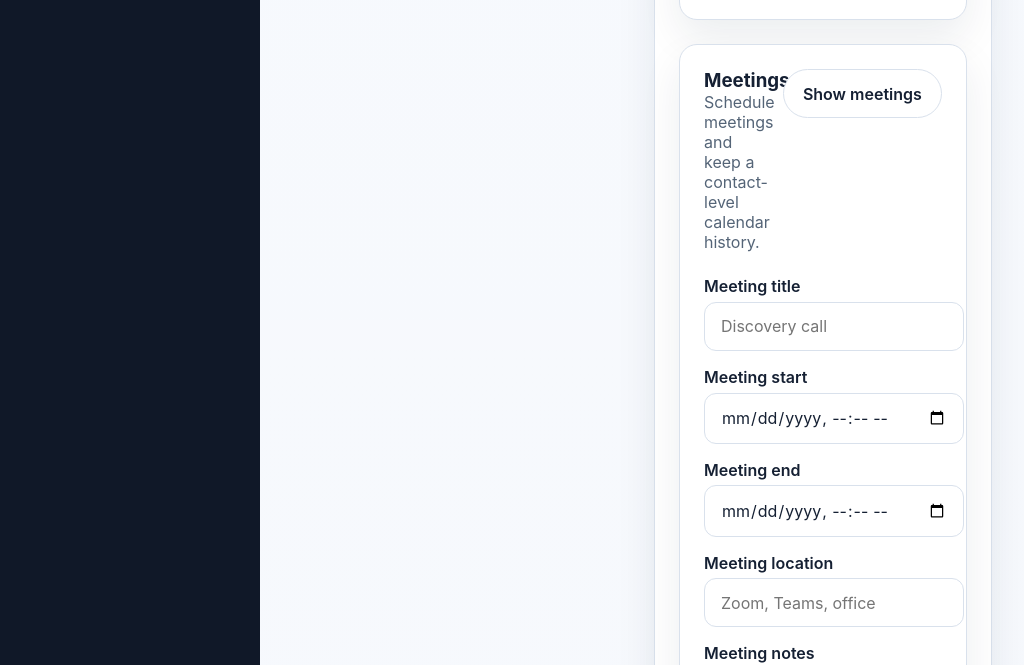
Test: contact calendar flow › schedules and cancels a meeting from contact detail
This screenshot has width=1024, height=665.
(page scrolled)
Check: the heading "Meetings" is shown, box [704,69,767,92]
Type "Intro meeting" into the field labelled "Meeting title" at (834,326), box [704,302,964,351]
Type "2026-06-20T14:00" into the field labelled "Meeting start" at (834,418), box [704,393,964,444]
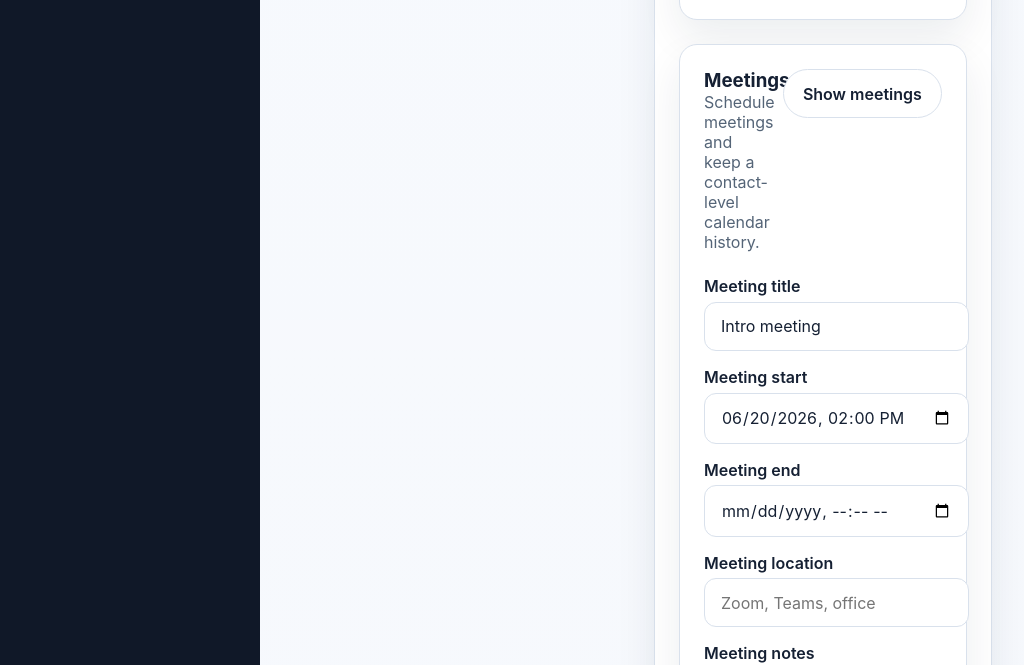
Type "2026-06-20T14:30" into the field labelled "Meeting end" at (836,511), box [704,485,969,537]
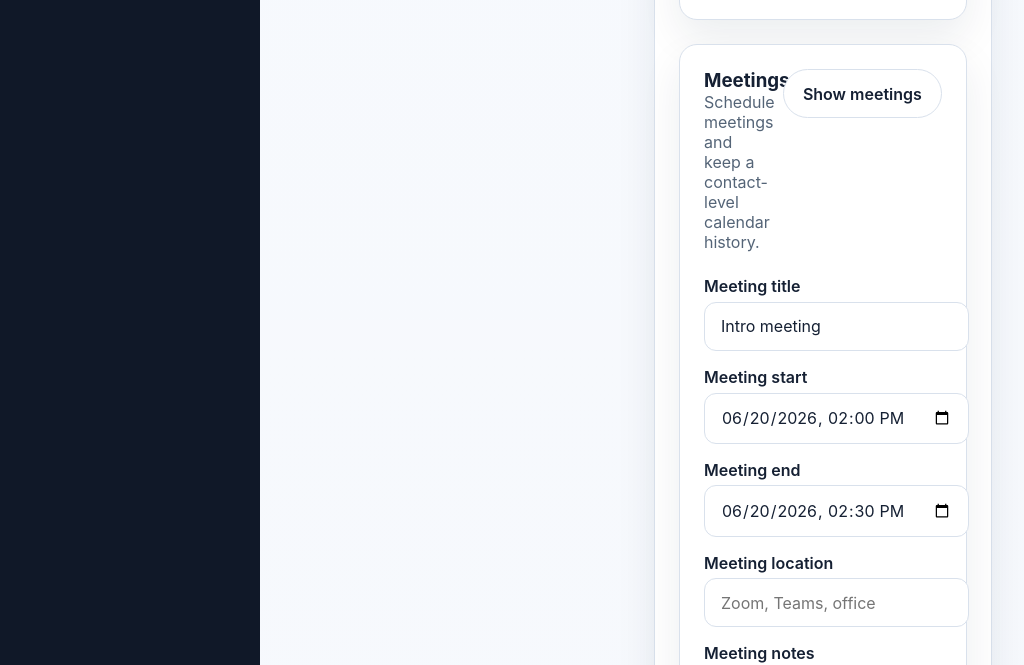
Type "Zoom" into the field labelled "Meeting location" at (836,603), box [704,578,969,627]
(page scrolled)
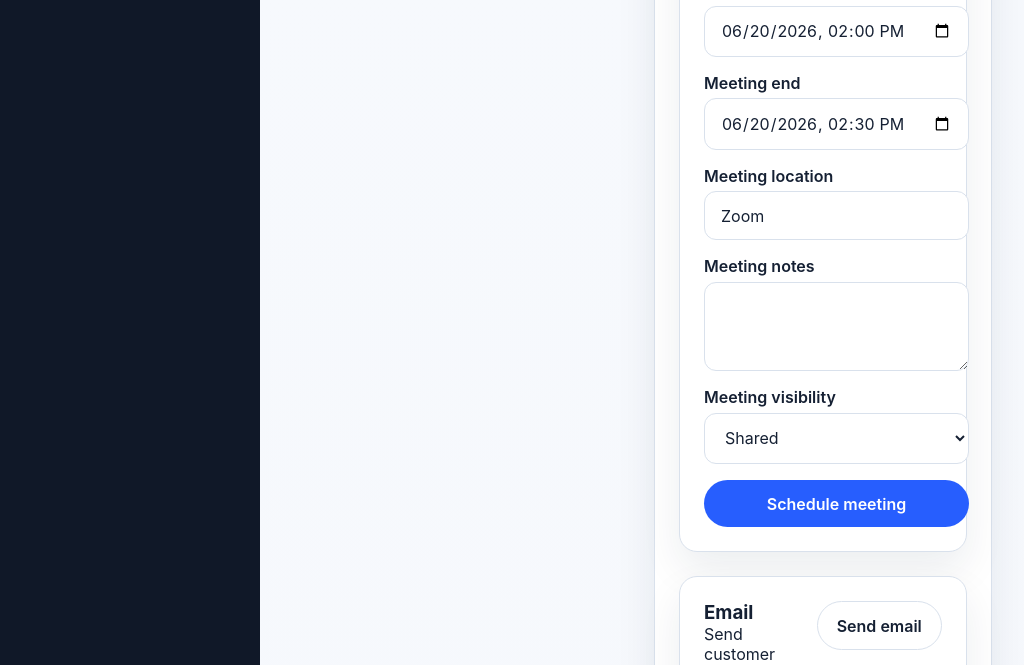
Type "Discuss timeline" into the text box labelled "Meeting notes" at (836,327), box [704,282,969,371]
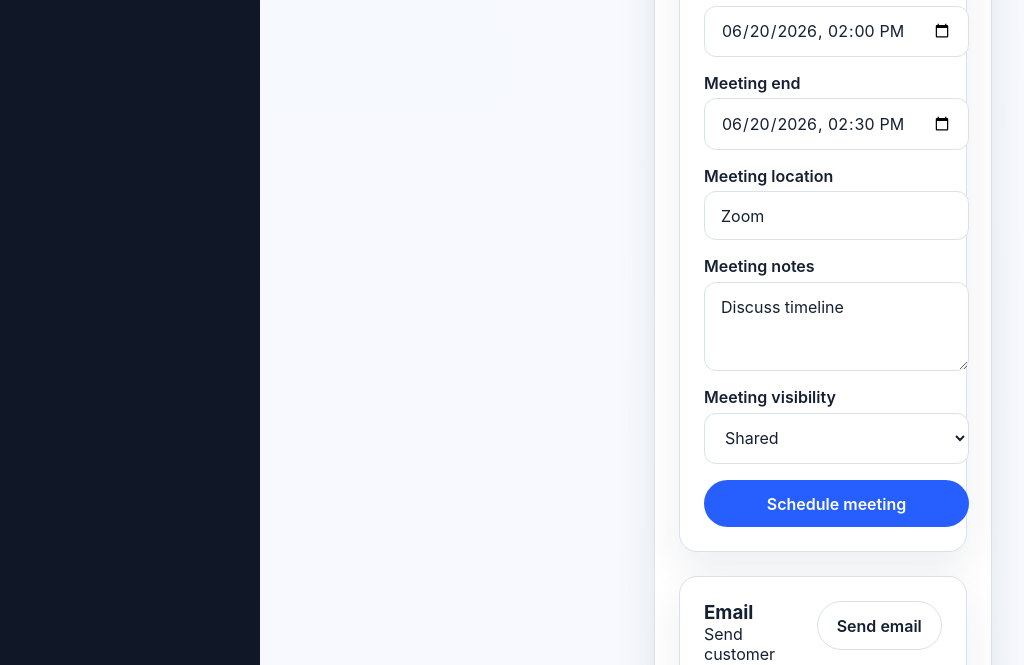
Click the button "Schedule meeting" at (836,504), box [704,480,969,527]
(page scrolled)
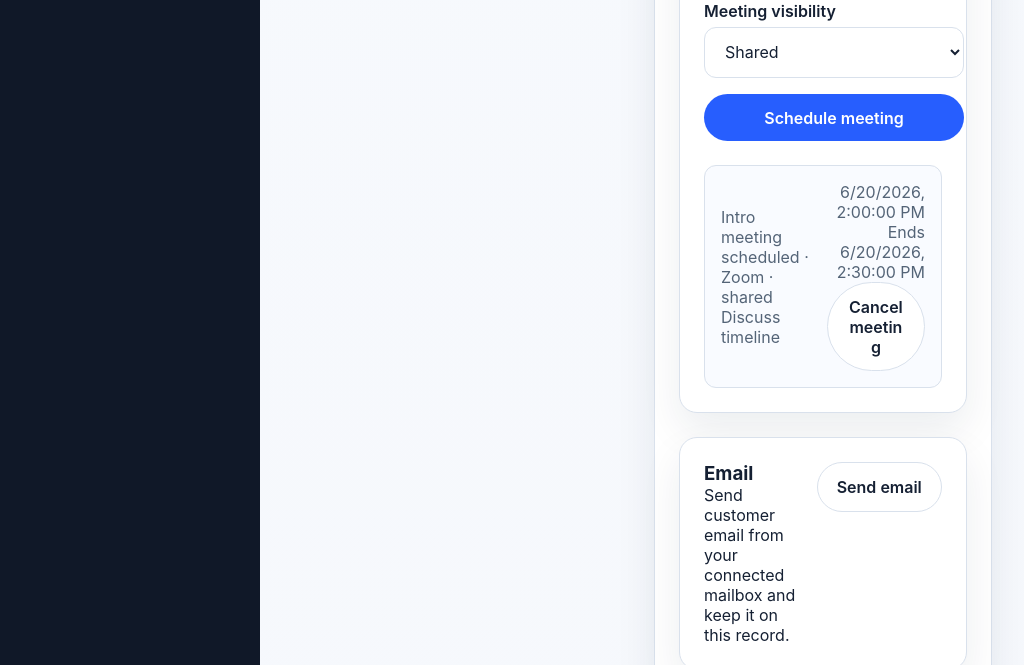
Check: the text "Intro meeting" is shown, box [721,207,782,247]
Click the button "Cancel meeting" at (876,327), box [827,282,925,371]
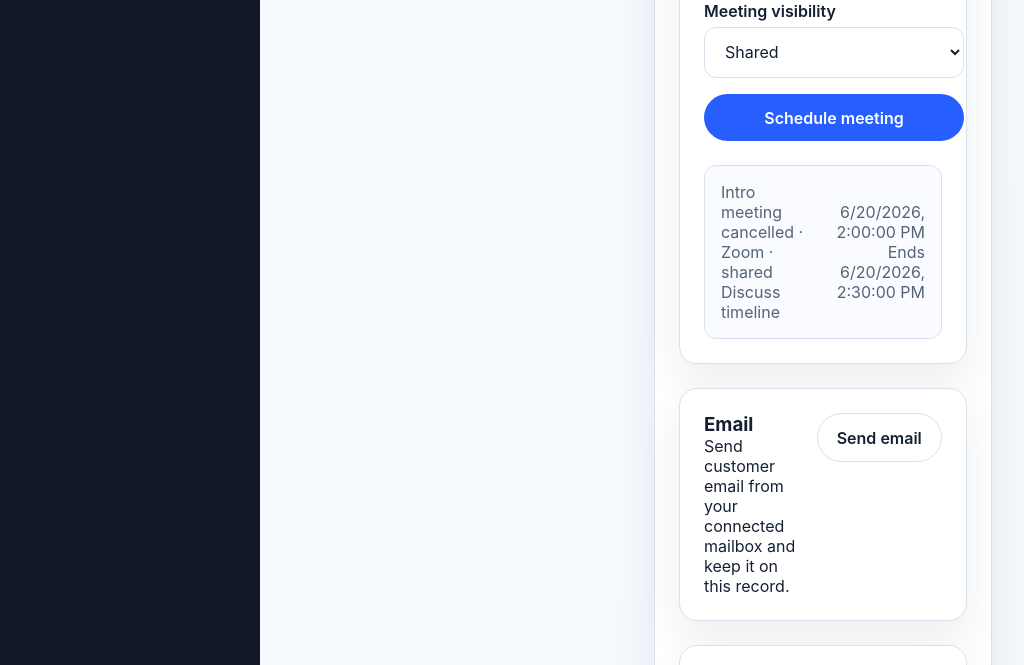
Check: the text "cancelled · Zoom · shared" is shown, box [721,222,810,282]
